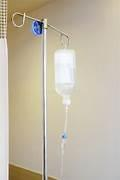Iv_Bottle: (54, 49, 75, 105)
